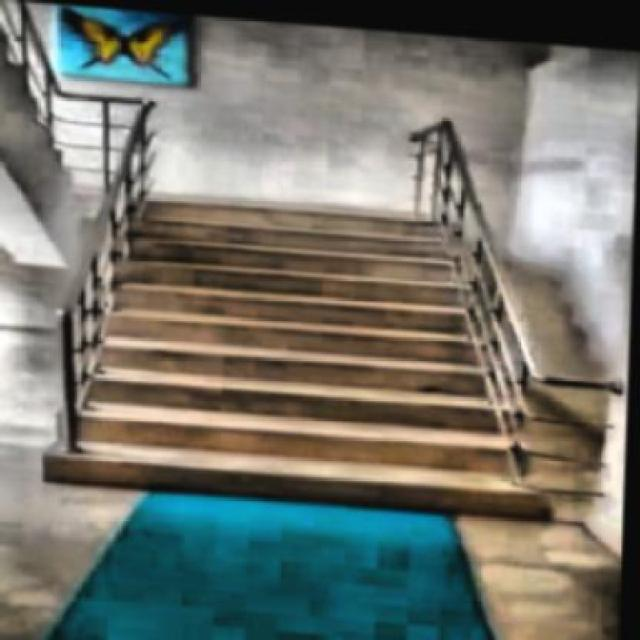stair: (51, 170, 577, 518)
